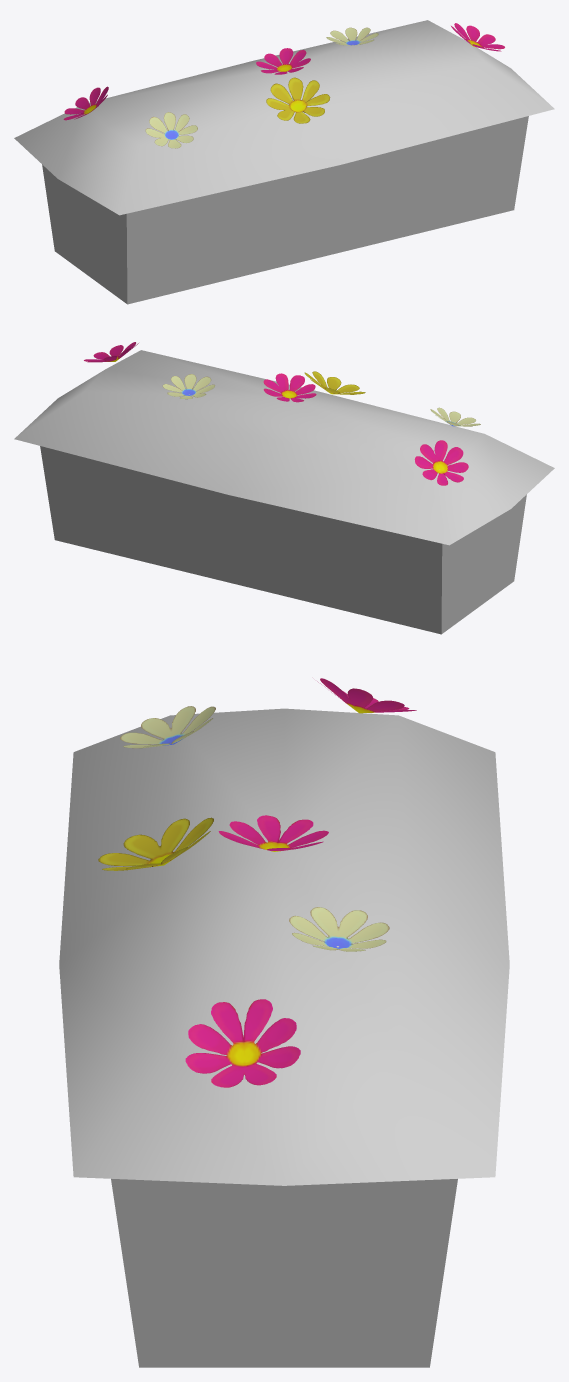
File: Flowerpot02_b01.FBX
3 views of the same model, one above another, from view 1: azimuth 30°, elevation 25°; view 2: azimuth 150°, elevation 25°; view 3: azimuth 270°, elevation 25° (orthographic). The views are drawn at different scales.
Parts seen in each view (by area): view 1: Flowerpot02_b01; view 2: Flowerpot02_b01; view 3: Flowerpot02_b01.
Part boxes in pixels (x1,y1,x2,y2): Flowerpot02_b01: (14, 20, 554, 304); Flowerpot02_b01: (14, 342, 554, 634); Flowerpot02_b01: (59, 678, 509, 1367).
Bounding box in the file's own units: 104 × 39.14 × 44.77.
